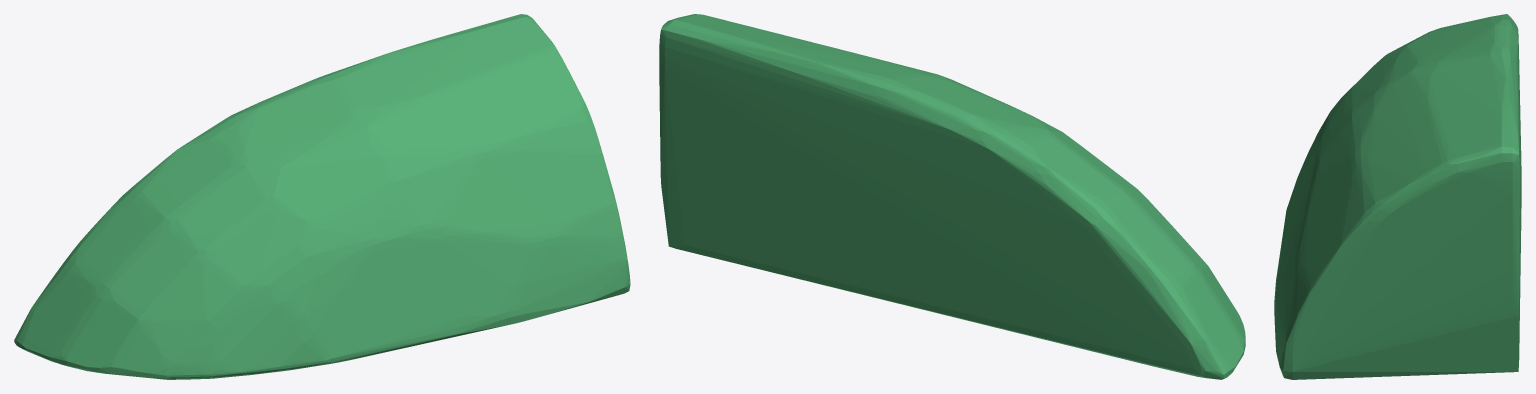
File: right-elbow-0_part_3.obj
3 views of the same model, side by side, from view 1: azimuth 30°, elevation 25°; view 2: azimuth 150°, elevation 25°; view 3: azimuth 270°, elevation 25° (orthographic). The views are drawn at different scales.
Size of the model in its own units: 0.0495 by 0.0192 by 0.0183.
